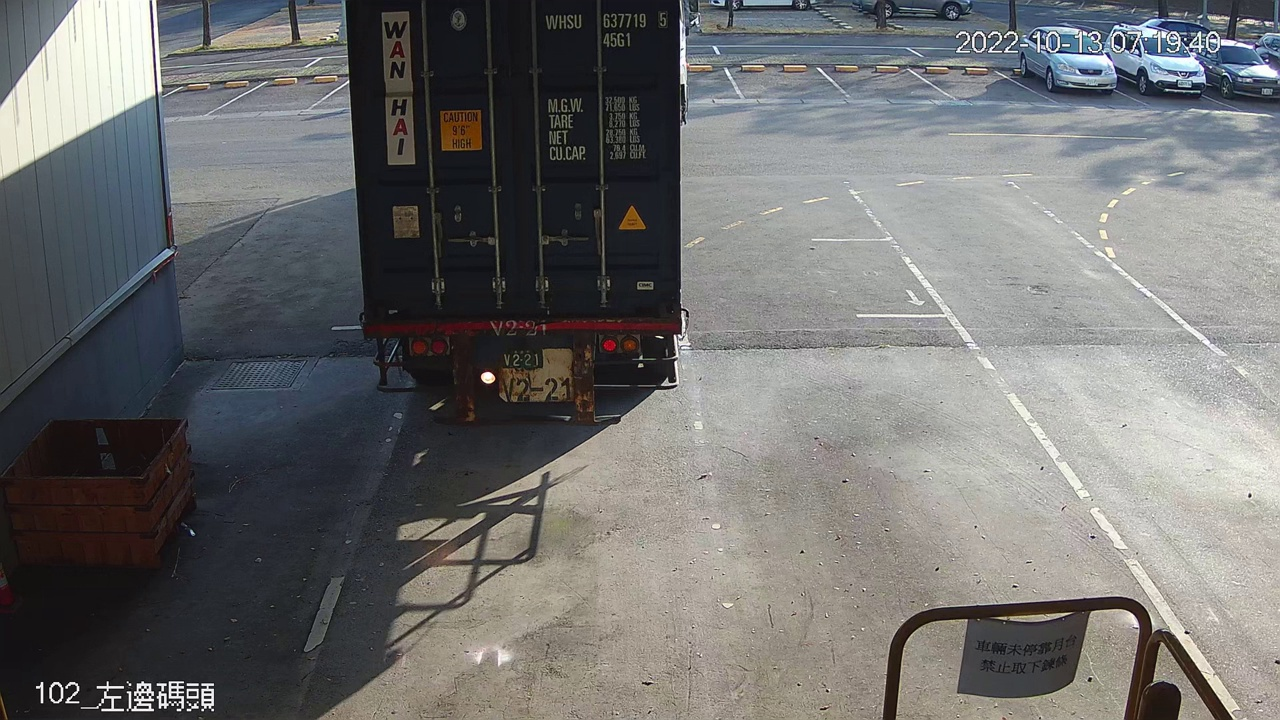container: (540, 6, 675, 55)
